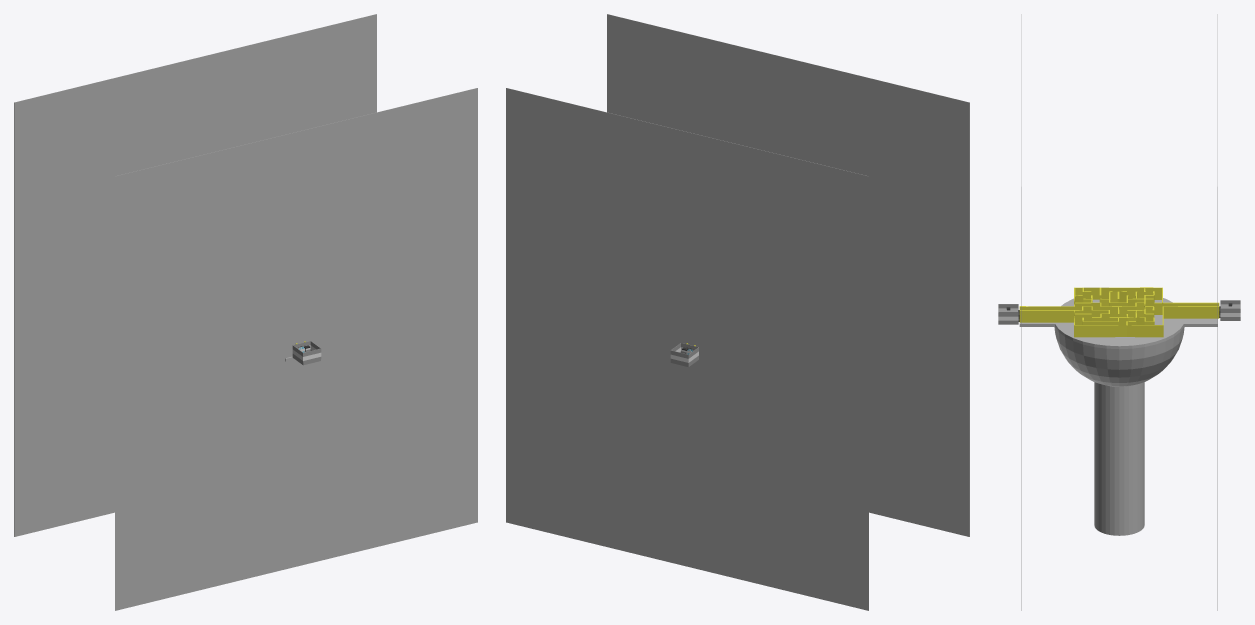
File: Segap 01 28 Maze 5.fbx
3 views of the same model, side by side, from view 1: azimuth 30°, elevation 25°; view 2: azimuth 150°, elevation 25°; view 3: azimuth 270°, elevation 25° (orthographic). The views are drawn at different scales.
Parts seen in each view (by area): view 1: Cube.208, Cube.215; view 2: Cube.215, Cube.208; view 3: Sphere.020, Plane.077, Cube.208, Cube.215, Plane.073, Plane.075.
Boxes of the visible parts, bbox=[...] form: Cube.208: bbox=[115, 88, 477, 610]; Cube.215: bbox=[14, 14, 376, 536]; Cube.215: bbox=[506, 88, 868, 610]; Cube.208: bbox=[607, 14, 969, 536]; Sphere.020: bbox=[1019, 298, 1217, 535]; Plane.077: bbox=[1019, 287, 1219, 337]; Cube.208: bbox=[1021, 14, 1021, 610]; Cube.215: bbox=[1217, 14, 1217, 610]; Plane.073: bbox=[998, 304, 1018, 324]; Plane.075: bbox=[1220, 300, 1240, 320].
Size of the model in its own units: 12450 by 14426 by 7386.
